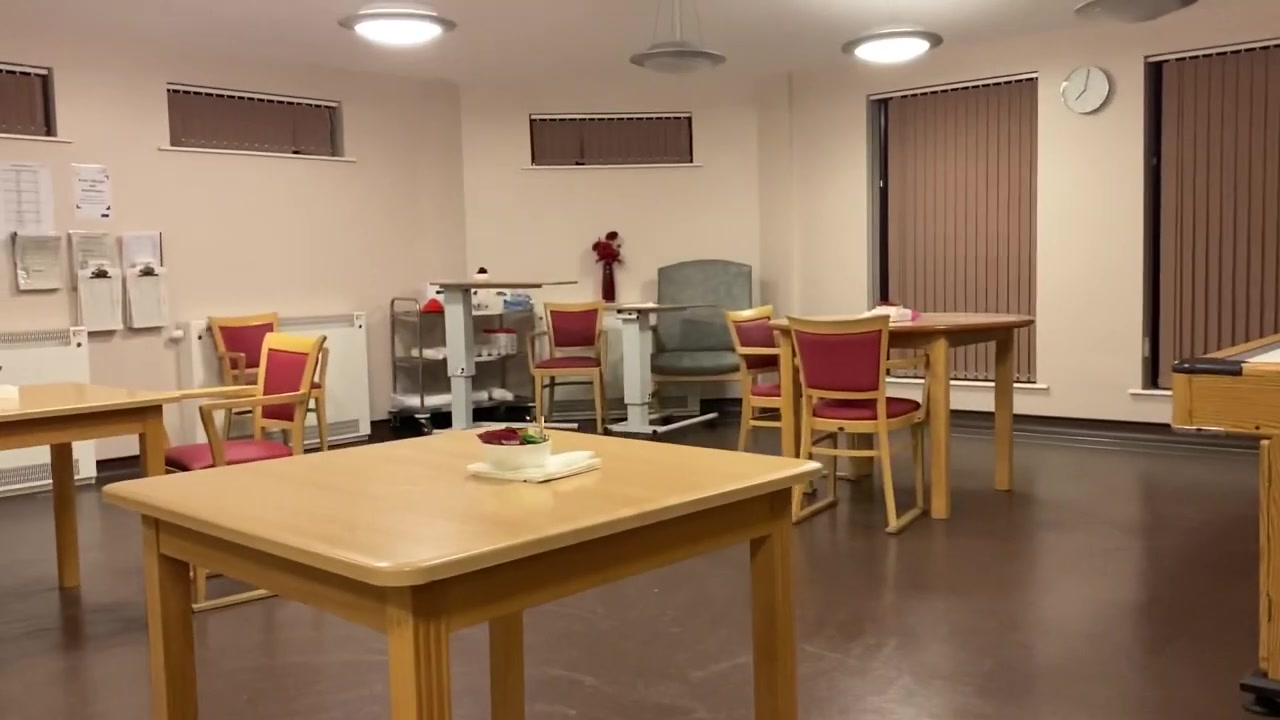chair: (163, 332, 327, 613), (782, 314, 926, 534), (726, 304, 859, 482), (207, 311, 330, 455), (650, 258, 753, 425), (531, 299, 609, 431)
table: (101, 427, 824, 720), (769, 312, 1035, 519), (1, 380, 184, 590), (427, 276, 575, 434), (602, 299, 717, 441)
utility_cart: (386, 292, 533, 437)
